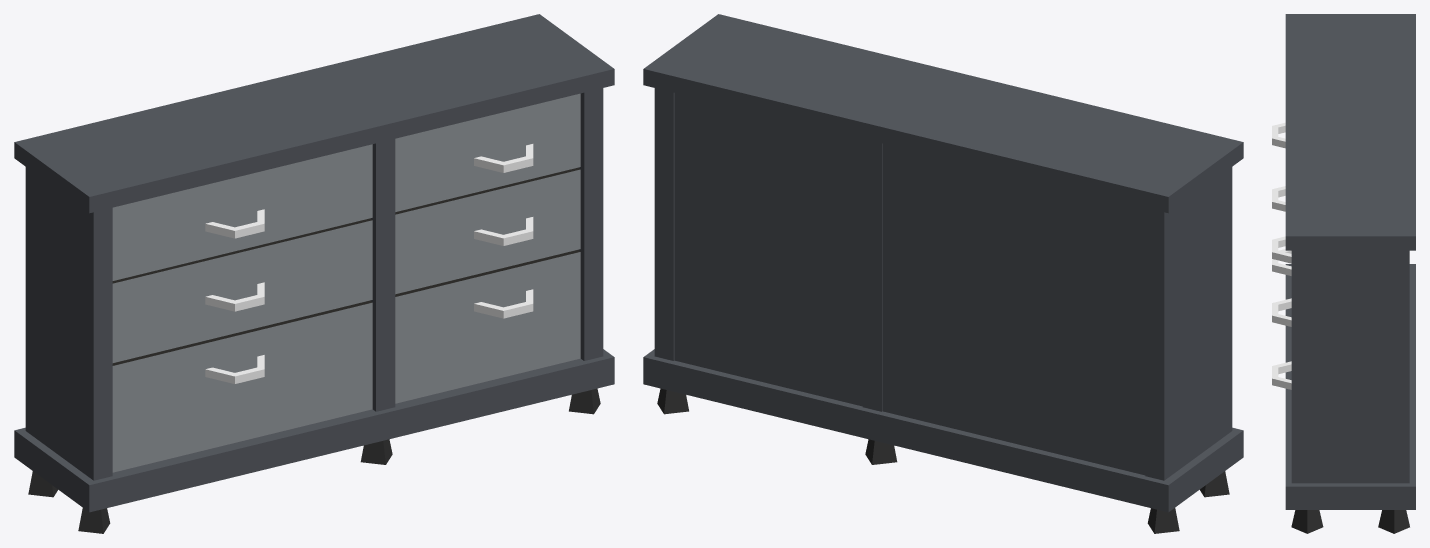
The model's file is Drawer_4C.fbx.
3 views of the same model, side by side, from view 1: azimuth 30°, elevation 25°; view 2: azimuth 150°, elevation 25°; view 3: azimuth 270°, elevation 25° (orthographic). The views are drawn at different scales.
Visible parts, largest first — view 1: polySurface1700; view 2: polySurface1700; view 3: polySurface1700.
Boxes of the visible parts, x1,y1,x2,y2 form: polySurface1700: [14, 14, 614, 533]; polySurface1700: [643, 14, 1243, 533]; polySurface1700: [1272, 14, 1415, 533].
Size of the model in its own units: 3.03 by 1.9 by 0.8282.
1 material, 1 textured.
